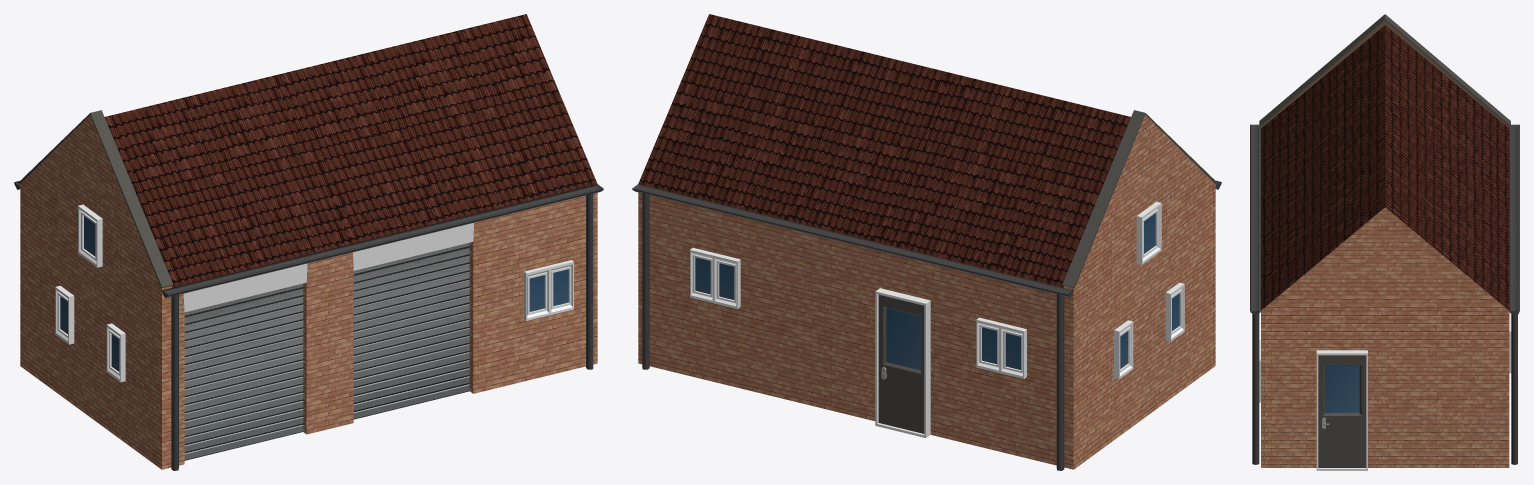
File: 2 deurs garage deel4.fbx
3 views of the same model, side by side, from view 1: azimuth 30°, elevation 25°; view 2: azimuth 150°, elevation 25°; view 3: azimuth 270°, elevation 25° (orthographic). The views are drawn at different scales.
Parts seen in each view (by area): view 1: polySurface157; view 2: polySurface157; view 3: polySurface157.
Boxes of the visible parts, x1,y1,x2,y2 form: polySurface157: (14,14,603,470); polySurface157: (632,14,1221,470); polySurface157: (1250,14,1519,470).
Size of the model in its own units: 7.27 by 4.72 by 4.31.
